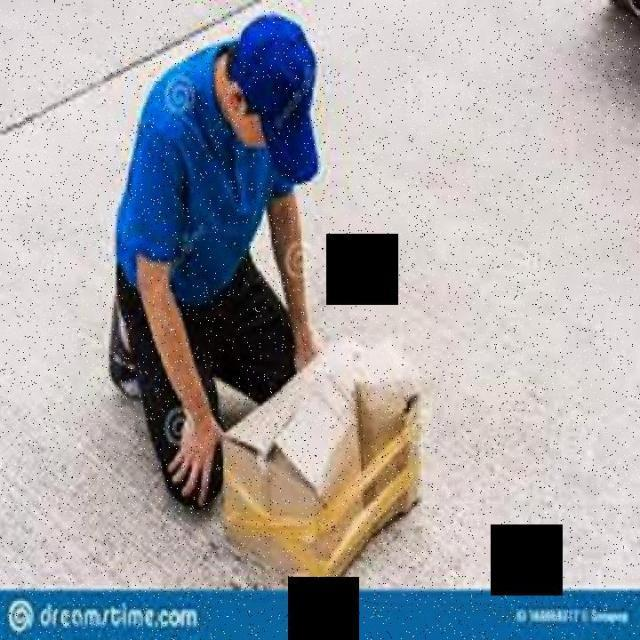box: (211, 332, 438, 593)
